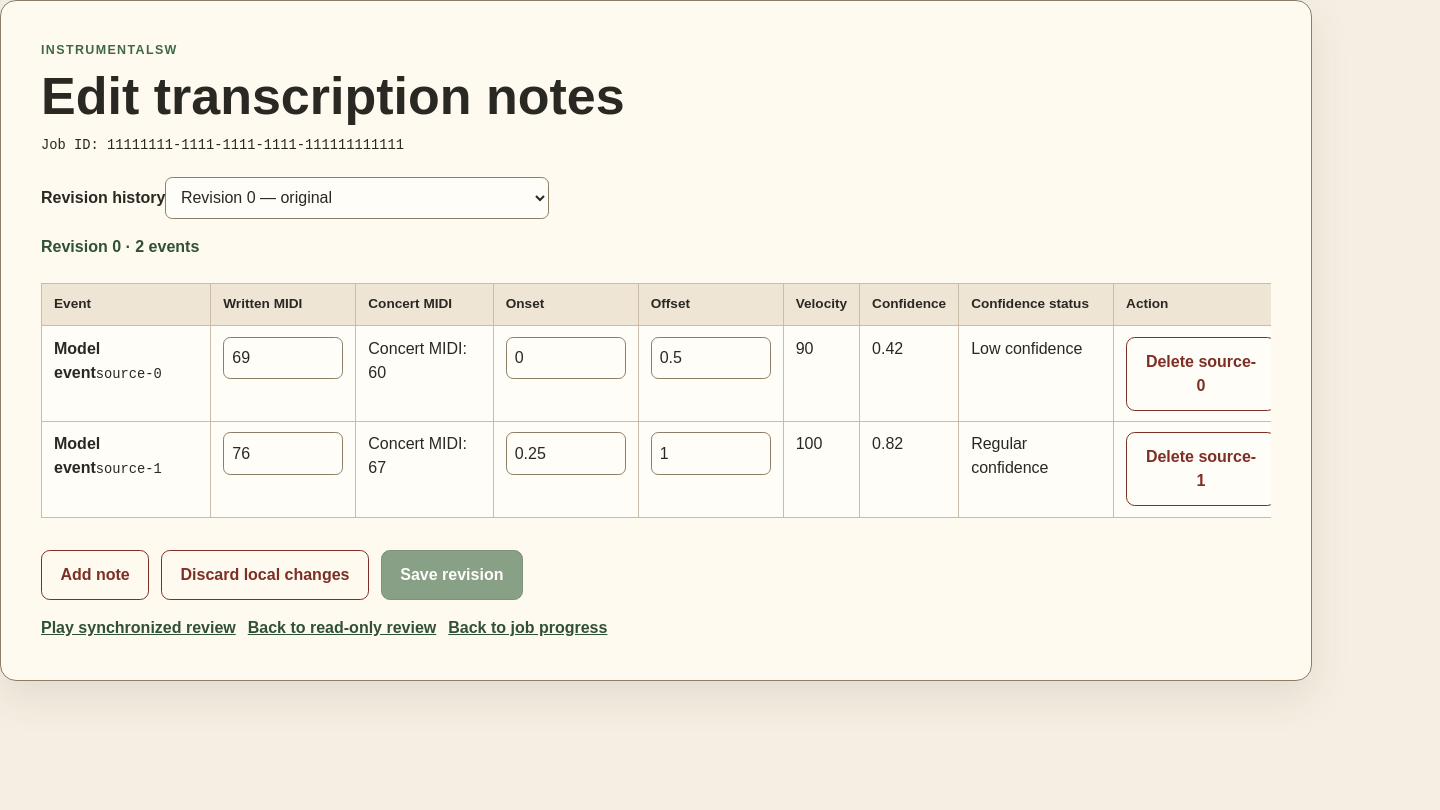
Test case: TranscriptionRevisionEditor › validates immediately and disables save until corrected
The width and height of the screenshot is (1440, 810).
Clear the number field named "Written MIDI for source-0": x=283, y=358 [223,337,343,379]
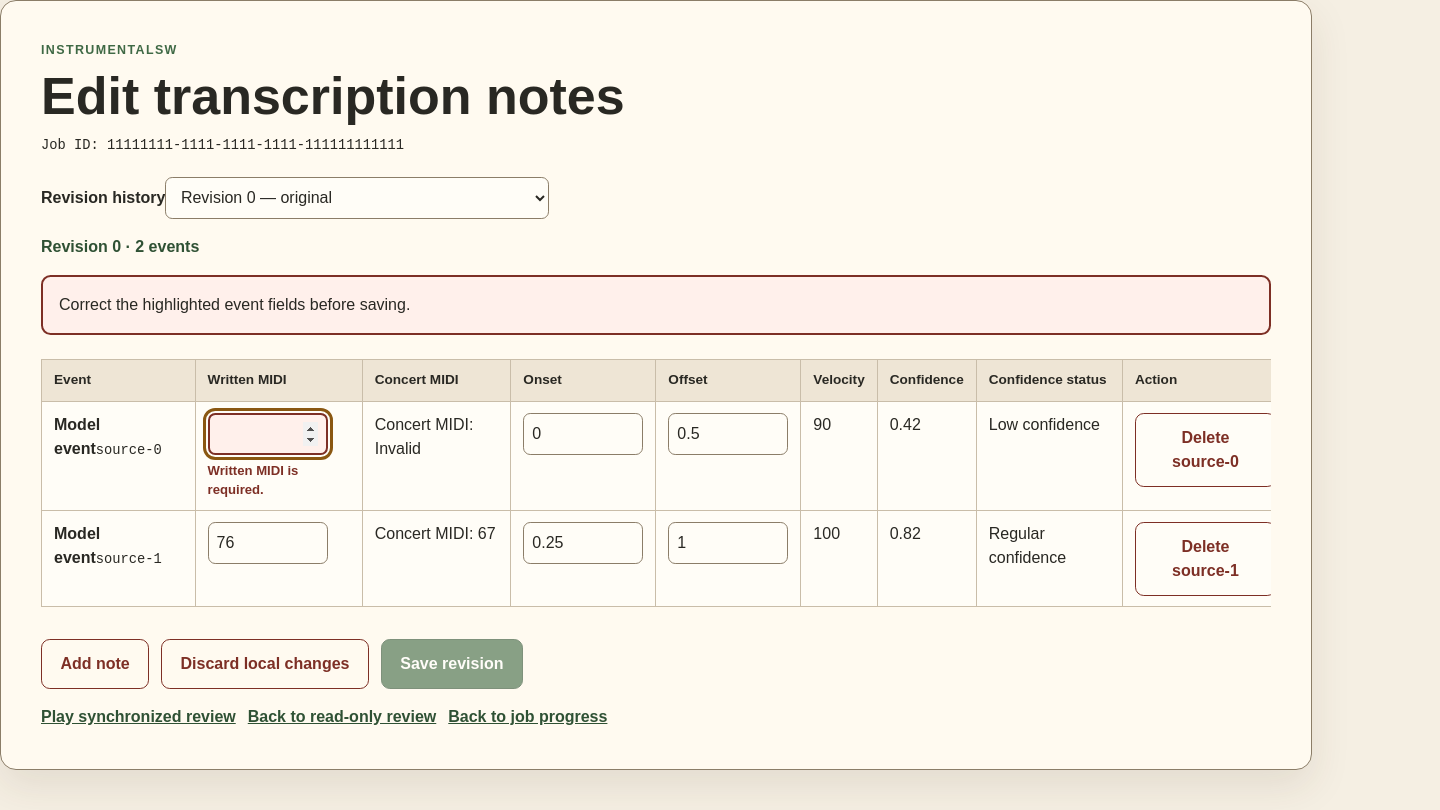
In the number field named "Written MIDI for source-0": x=268, y=434 [208,413,328,455], type "200"
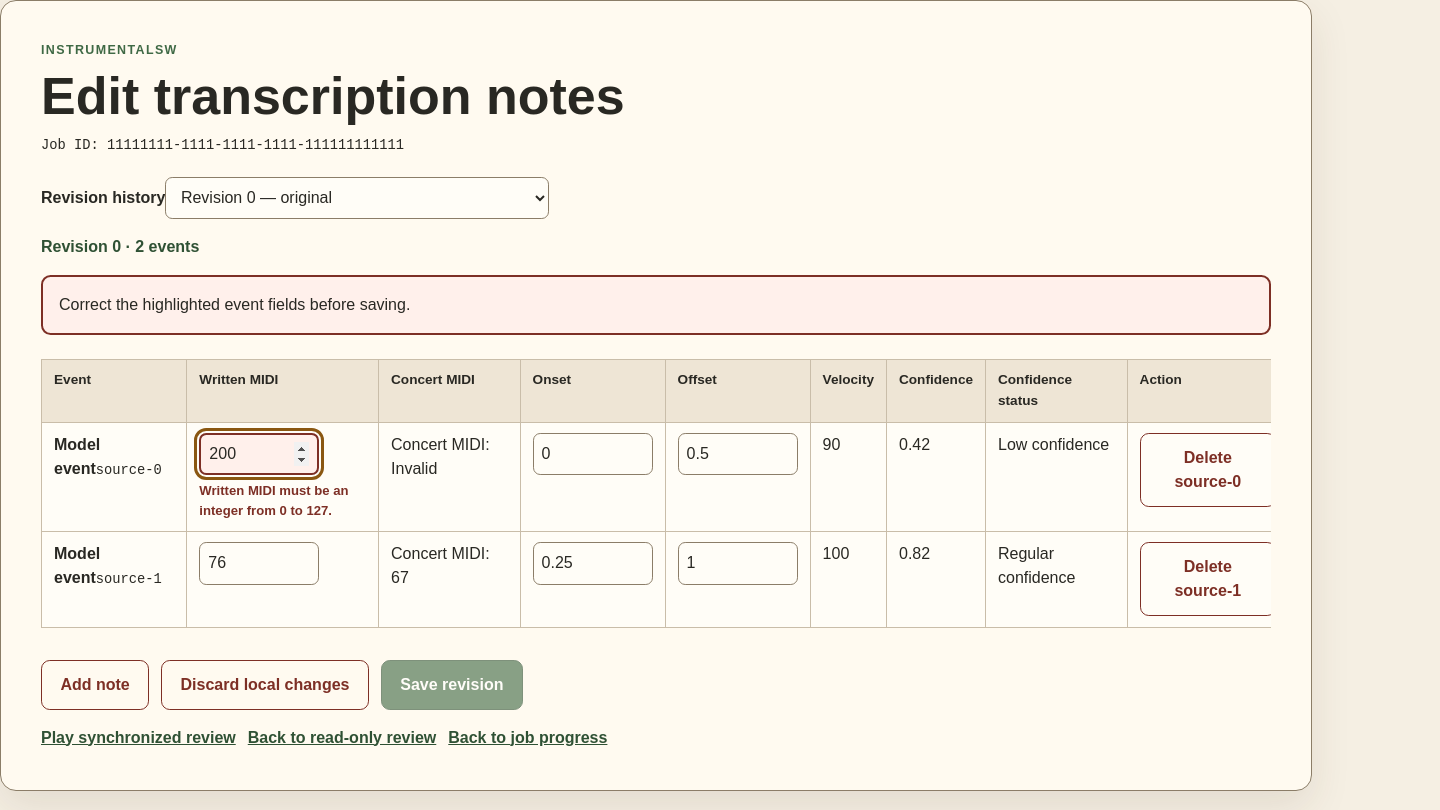
Expected: the button "Save revision" is disabled, [381,660,523,710]
Expected: the text "Written MIDI must be an integer from 0 to 127." is shown, [199,481,366,520]
Clear the number field named "Written MIDI for source-0": x=259, y=454 [199,433,319,475]
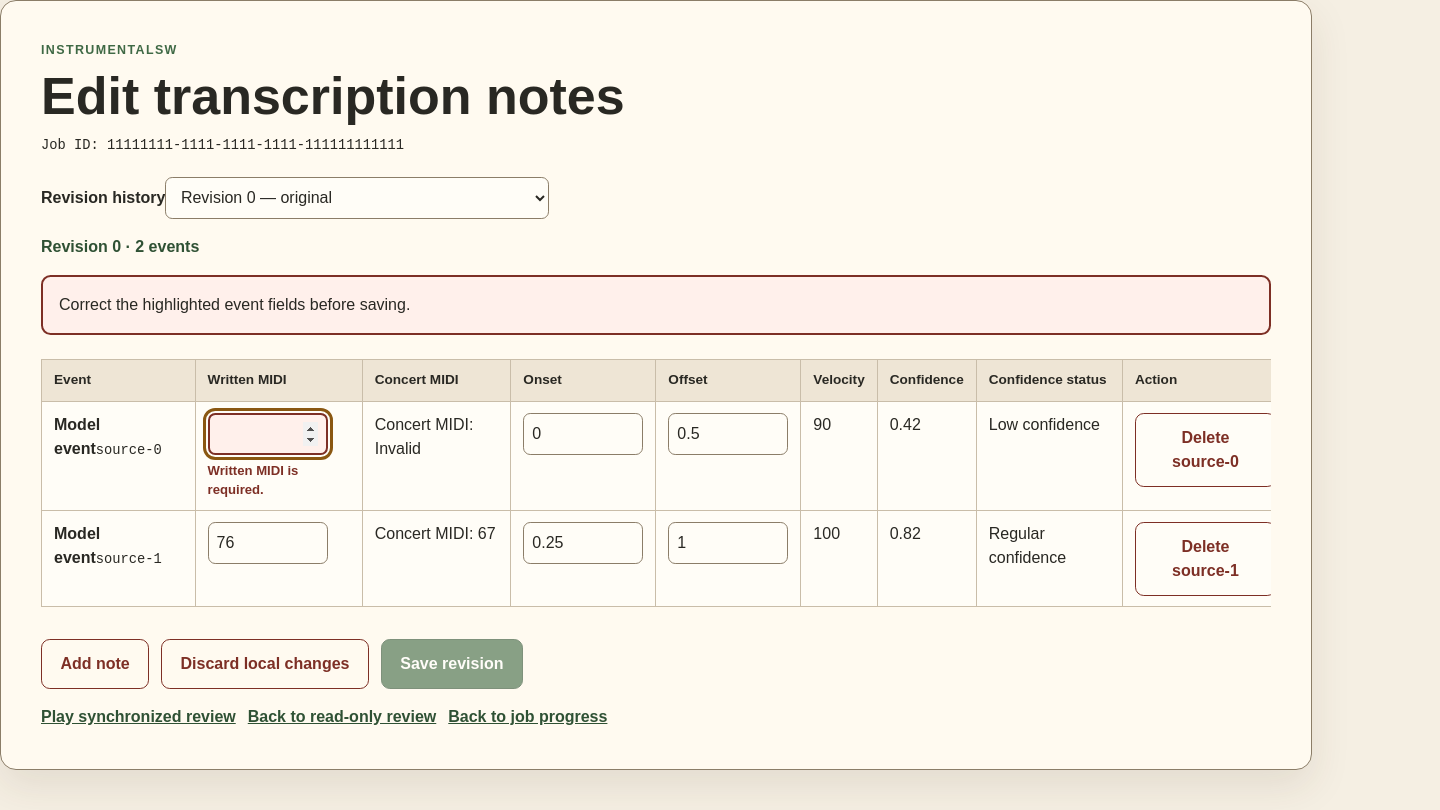
In the number field named "Written MIDI for source-0": x=268, y=434 [208,413,328,455], type "70"
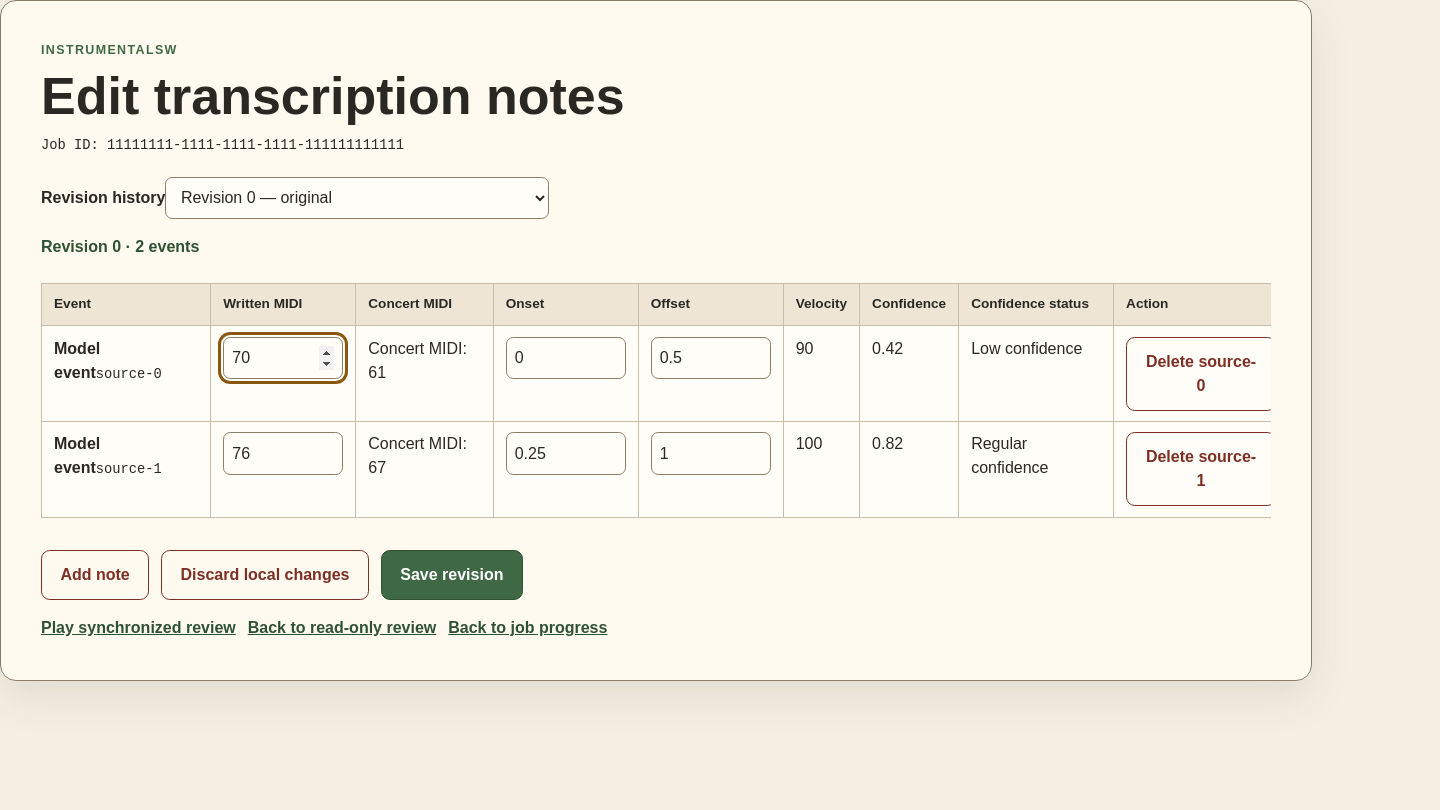
Expected: the text "Concert MIDI: 61" is shown, [356,326,493,422]
Expected: the button "Save revision" is enabled, [381,550,523,600]
